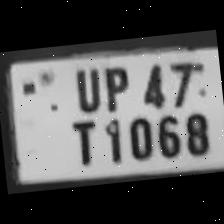0: (122, 110, 155, 162)
1: (96, 114, 127, 165)
4: (130, 58, 170, 110)
6: (150, 110, 184, 162)
7: (160, 55, 202, 108)
8: (178, 106, 212, 158)
P: (96, 60, 134, 113)
T: (64, 114, 102, 168)
U: (66, 64, 104, 112)
